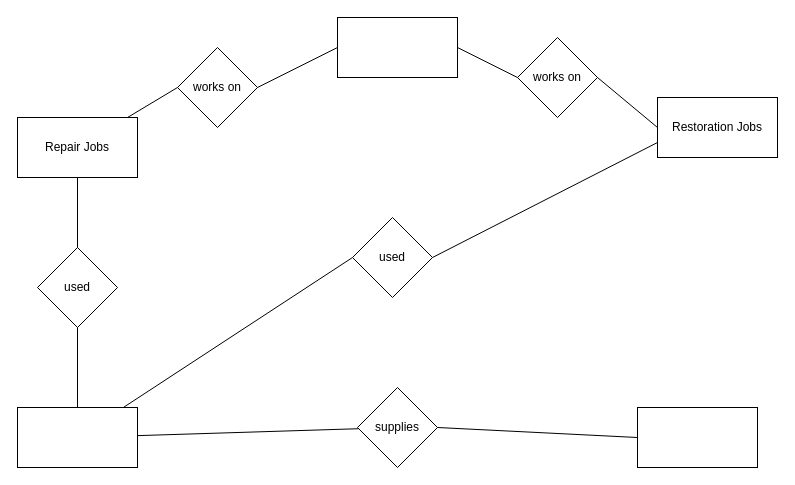
The diagram is 795 pixels wide and 485 high, and some of its shapes have lost their labels. Here are the shapes that lost their labels. From the top down, the centre of each, then its label:
At [397,47]: "Employees".
At [77,437]: "Spare parts".
At [697,437]: "Suppliers".
